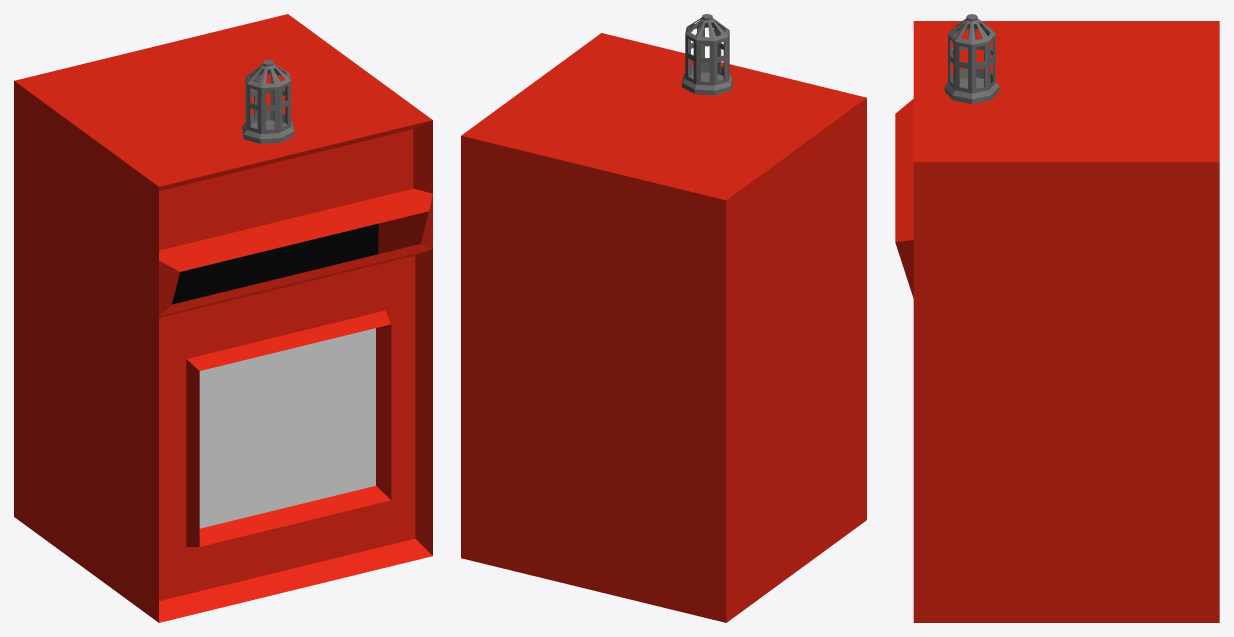
File: smallPostbox.fbx
3 renders of one model, left to right at view 1: azimuth 30°, elevation 25°; view 2: azimuth 150°, elevation 25°; view 3: azimuth 270°, elevation 25°, orthographic. The views are drawn at different scales.
Visible parts, largest first — view 1: SmallPostbox; view 2: SmallPostbox; view 3: SmallPostbox.
Boxes of the visible parts, box(x1,y1,x2,y2) form: SmallPostbox: box(14, 14, 432, 622); SmallPostbox: box(461, 14, 866, 622); SmallPostbox: box(895, 14, 1219, 622).
Size of the model in its own units: 23.3 by 41.22 by 22.63.
